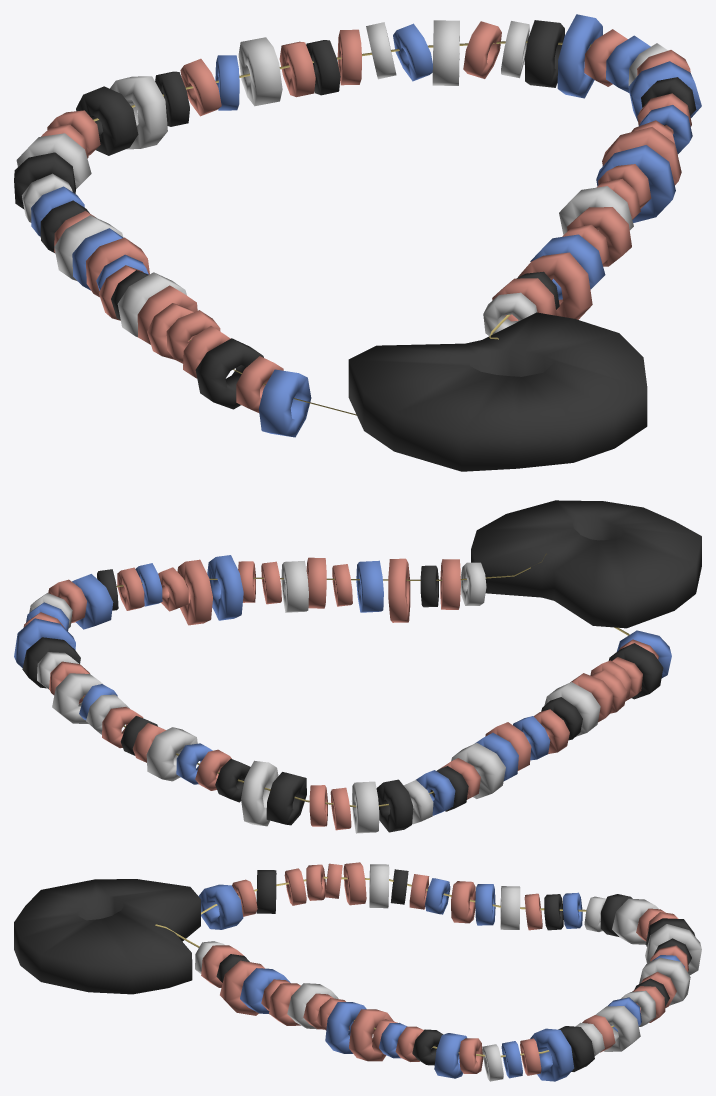
The model's file is collar.fbx.
3 renders of one model, top to bottom at view 1: azimuth 30°, elevation 25°; view 2: azimuth 150°, elevation 25°; view 3: azimuth 270°, elevation 25°, orthographic. The views are drawn at different scales.
Visible parts, largest first — view 1: BezierCurve; view 2: BezierCurve; view 3: BezierCurve.
Part boxes in pixels (<box>): BezierCurve: <box>14,14,701,471</box>; BezierCurve: <box>14,500,701,833</box>; BezierCurve: <box>14,862,701,1081</box>.
Size of the model in its own units: 26.07 by 20 by 3.51.
